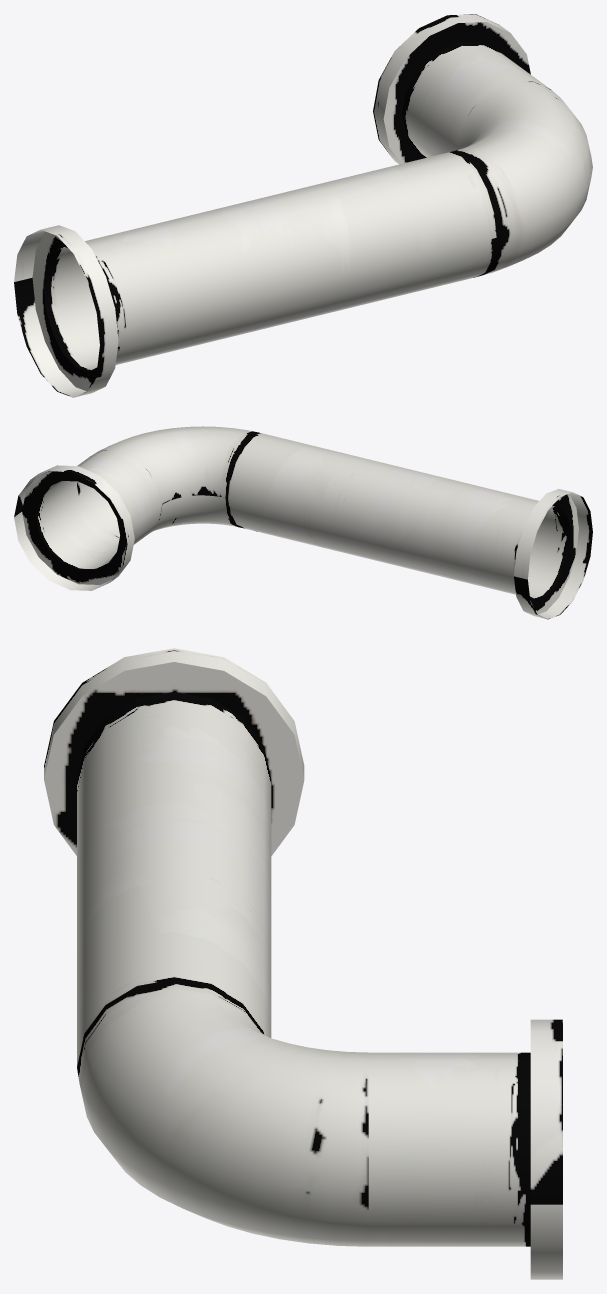
File: props_mining_industrial_pipe01_l_128_01.glb
3 renders of one model, top to bottom at view 1: azimuth 30°, elevation 25°; view 2: azimuth 150°, elevation 25°; view 3: azimuth 270°, elevation 25°, orthographic. The views are drawn at different scales.
Parts seen in each view (by area): view 1: models/props_mining/industrial_pipe01_l_128_01; view 2: models/props_mining/industrial_pipe01_l_128_01; view 3: models/props_mining/industrial_pipe01_l_128_01.
Part boxes in pixels (<box>): models/props_mining/industrial_pipe01_l_128_01: <box>14,14,592,397</box>; models/props_mining/industrial_pipe01_l_128_01: <box>14,426,592,619</box>; models/props_mining/industrial_pipe01_l_128_01: <box>44,648,562,1279</box>.
Size of the model in its own units: 128 by 32.16 by 64.07.
1 material, 1 textured.
